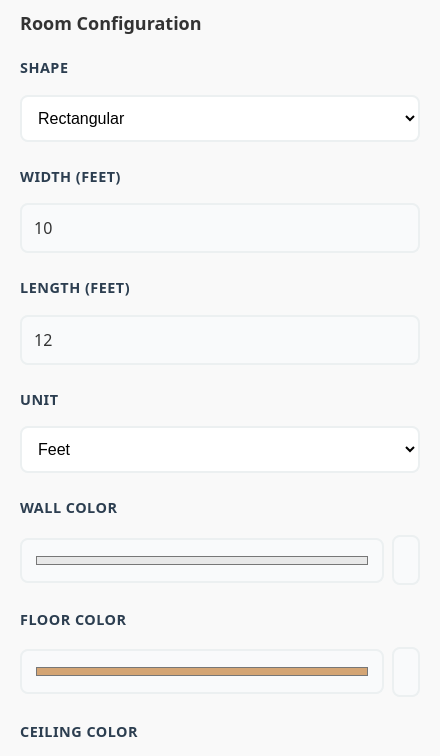
Test: RoomConfigPanel › Shape selector › changes dimension inputs when shape changes to circular
// Change to circular
Select "Circular" in the dropdown labelled "Shape": (220, 118) 20,95 -> 420,142
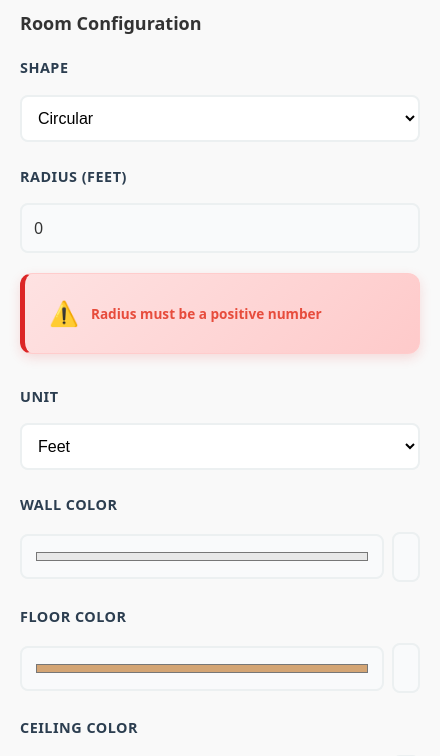
Check: the label labelled "Width" is gone
Check: the label labelled "Length" is gone
Check: the number field labelled "Radius (feet)" is shown, box 20,203 -> 420,253
